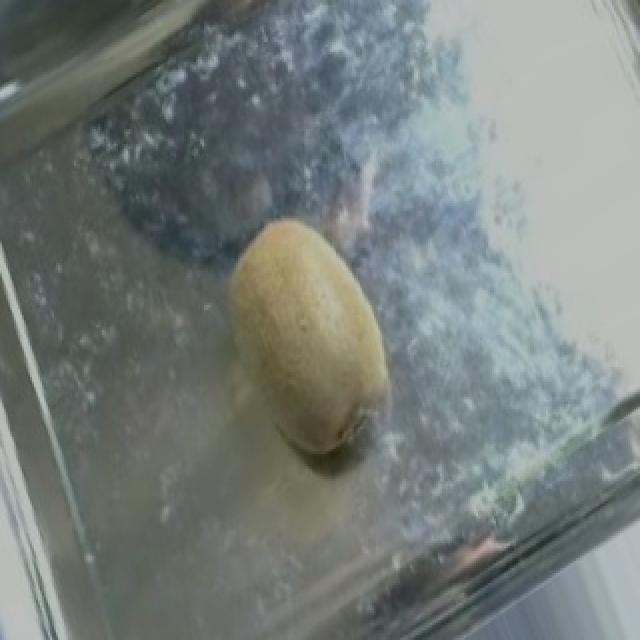Fruit: (182, 191, 420, 484)
